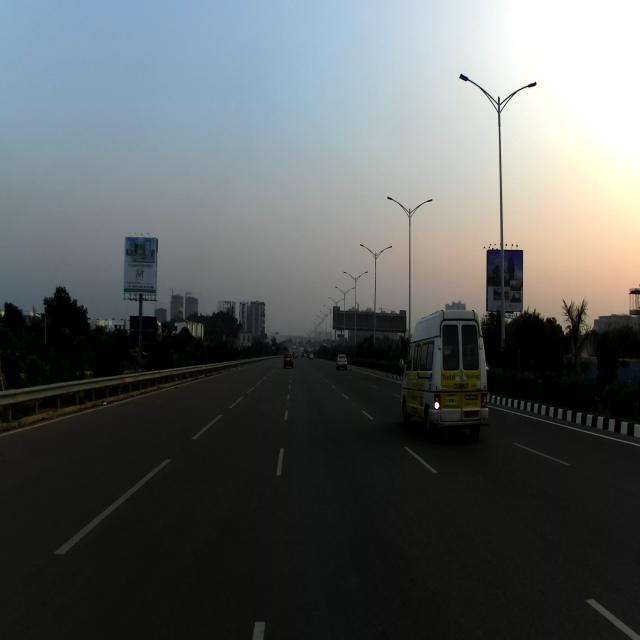bus ahead at: (400, 305, 490, 440)
